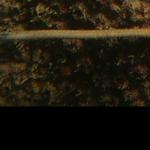dead: (1, 1, 148, 106)
